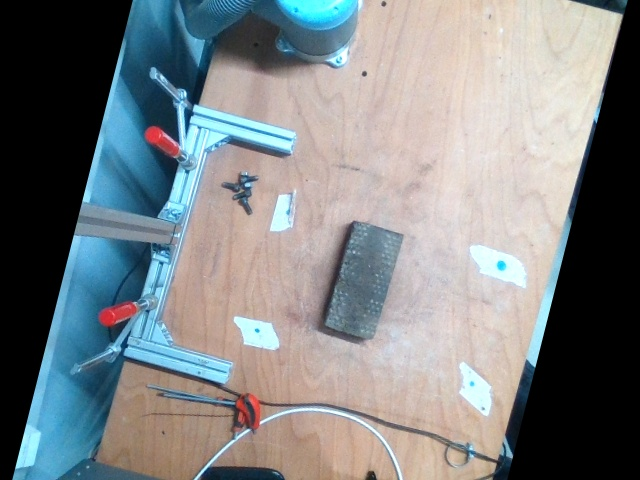brick: (324, 222, 404, 342)
